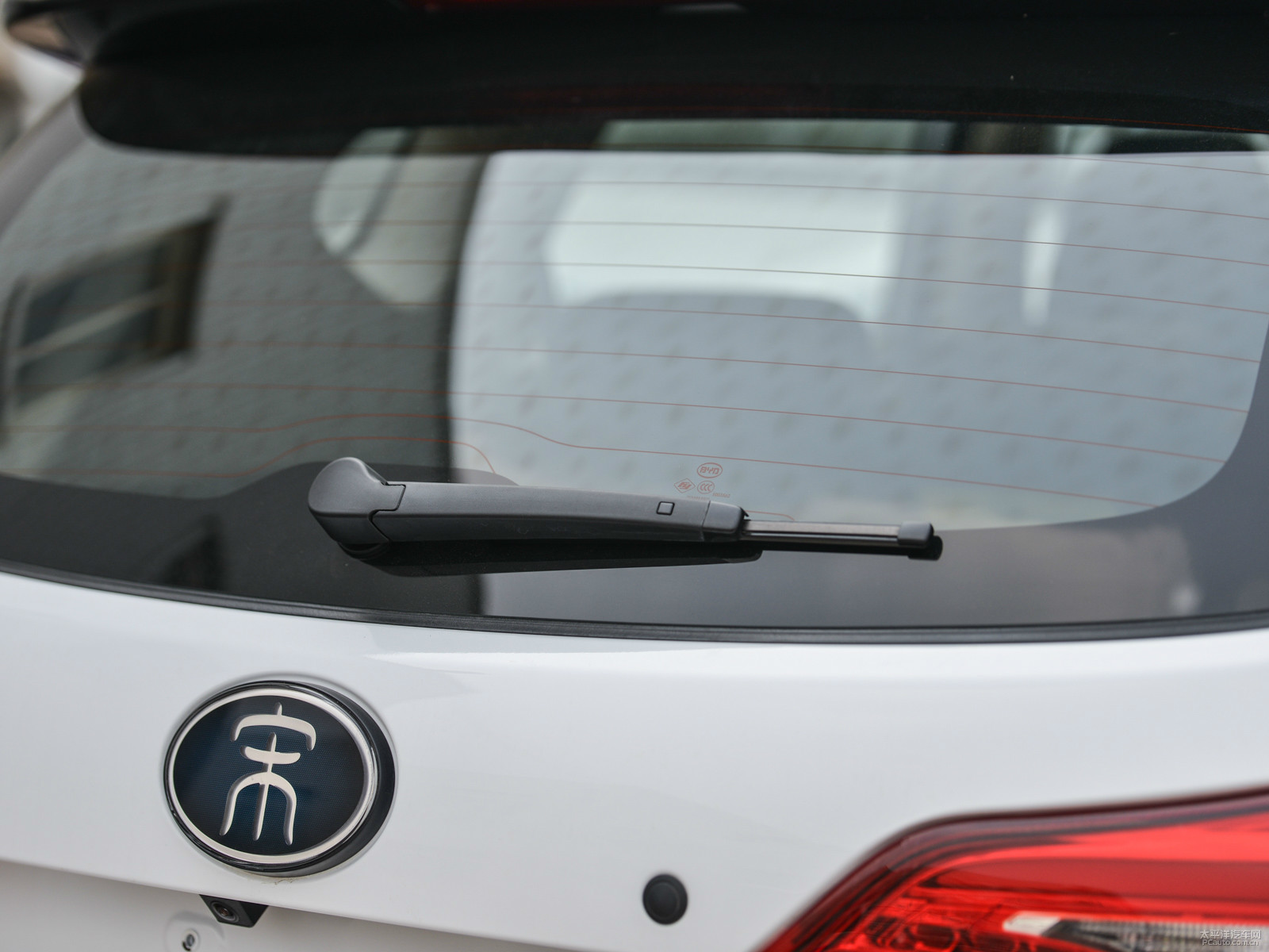BYD Song: (166, 688, 374, 862)
